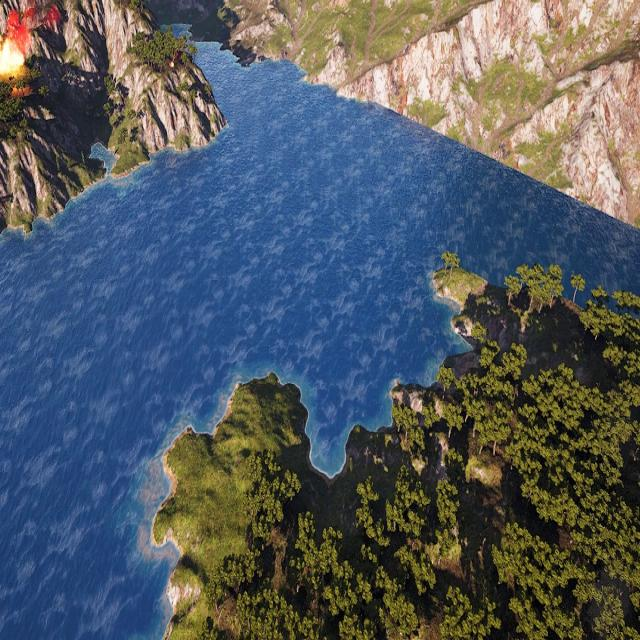fire: (0, 36, 24, 76)
smoke: (4, 0, 62, 43)
